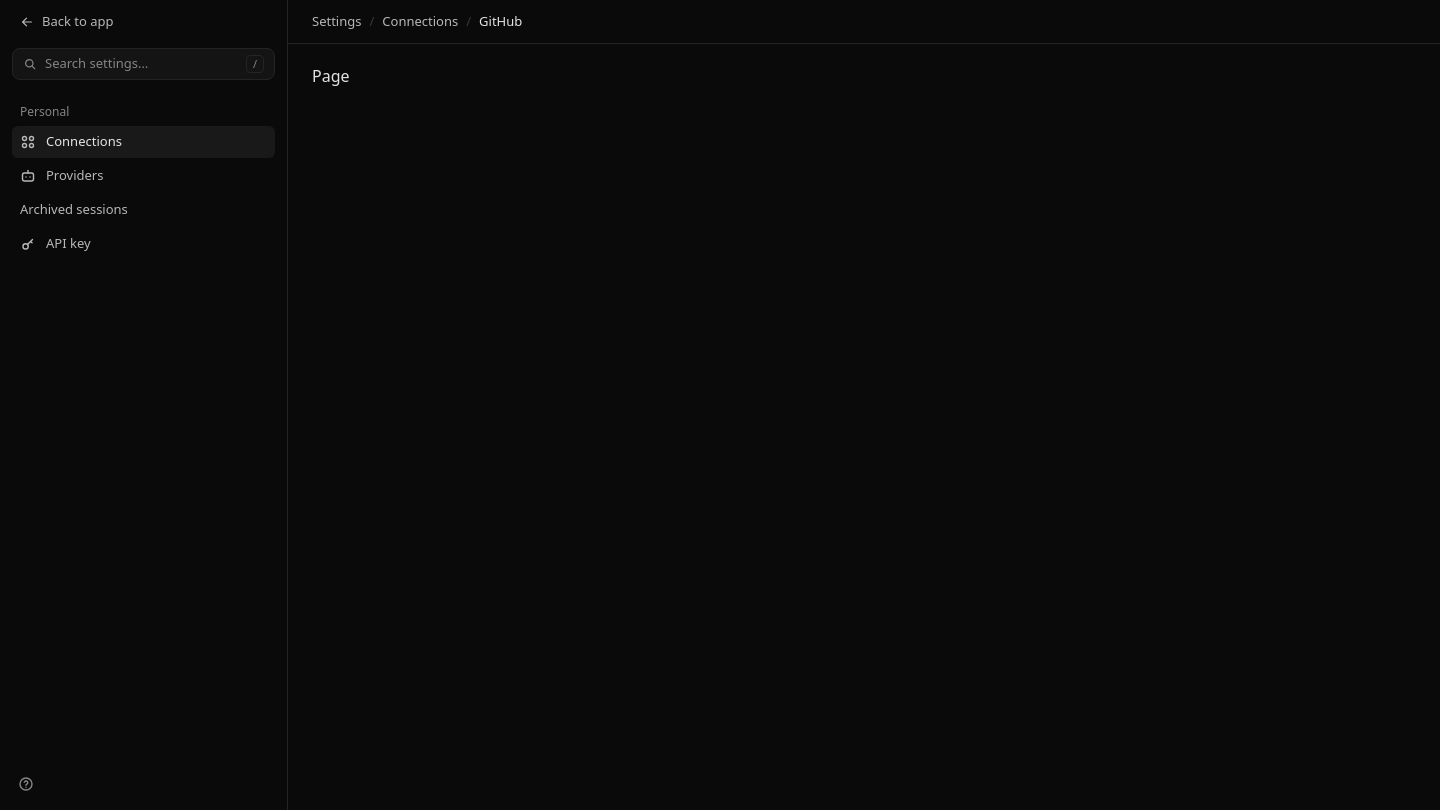
Scenario: Settings shell › narrows the rail to matching settings and marks where the page sits
This screenshot has width=1440, height=810.
// `false` is the event having been cancelled, so the slash is not typed into the field.
Step 1. Press /
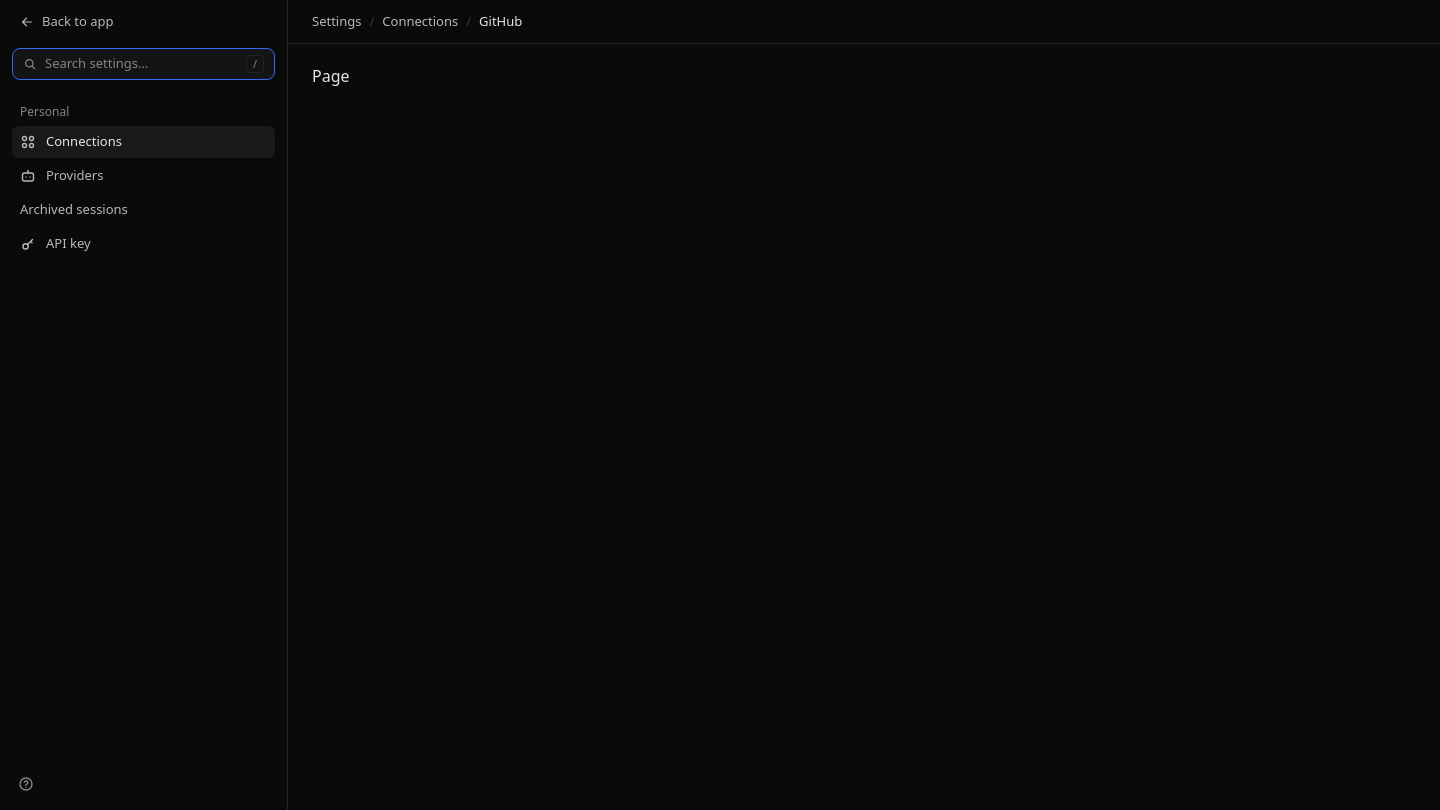
Step 2. Type "key" into the search field named "Search settings" → [141, 64], box [45,54,238,74]
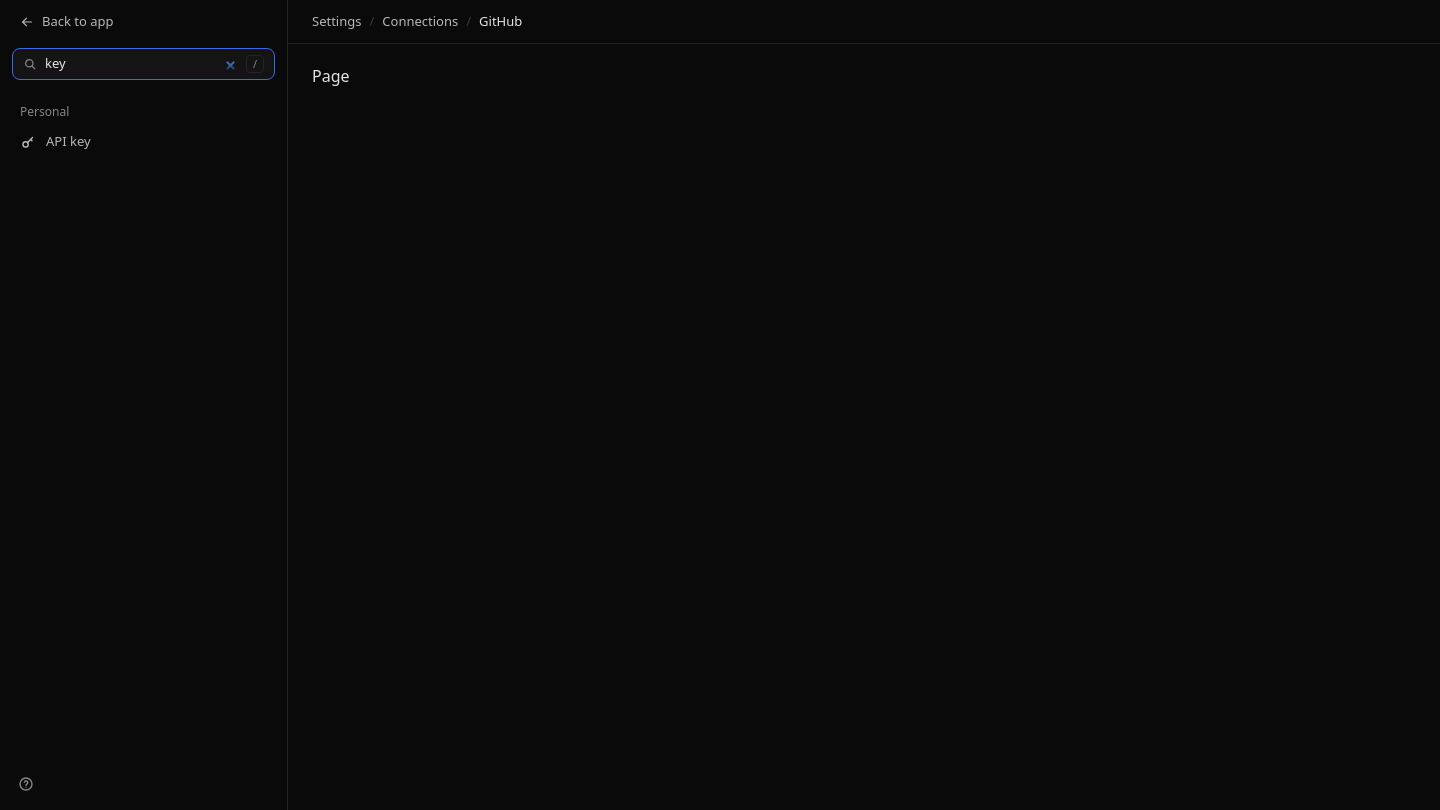
expect the button "API key" is shown: met, box [12,126,275,158]
Step 3. Replace the text in the search field named "Search settings" with "billing" → [141, 64], box [45,54,238,74]
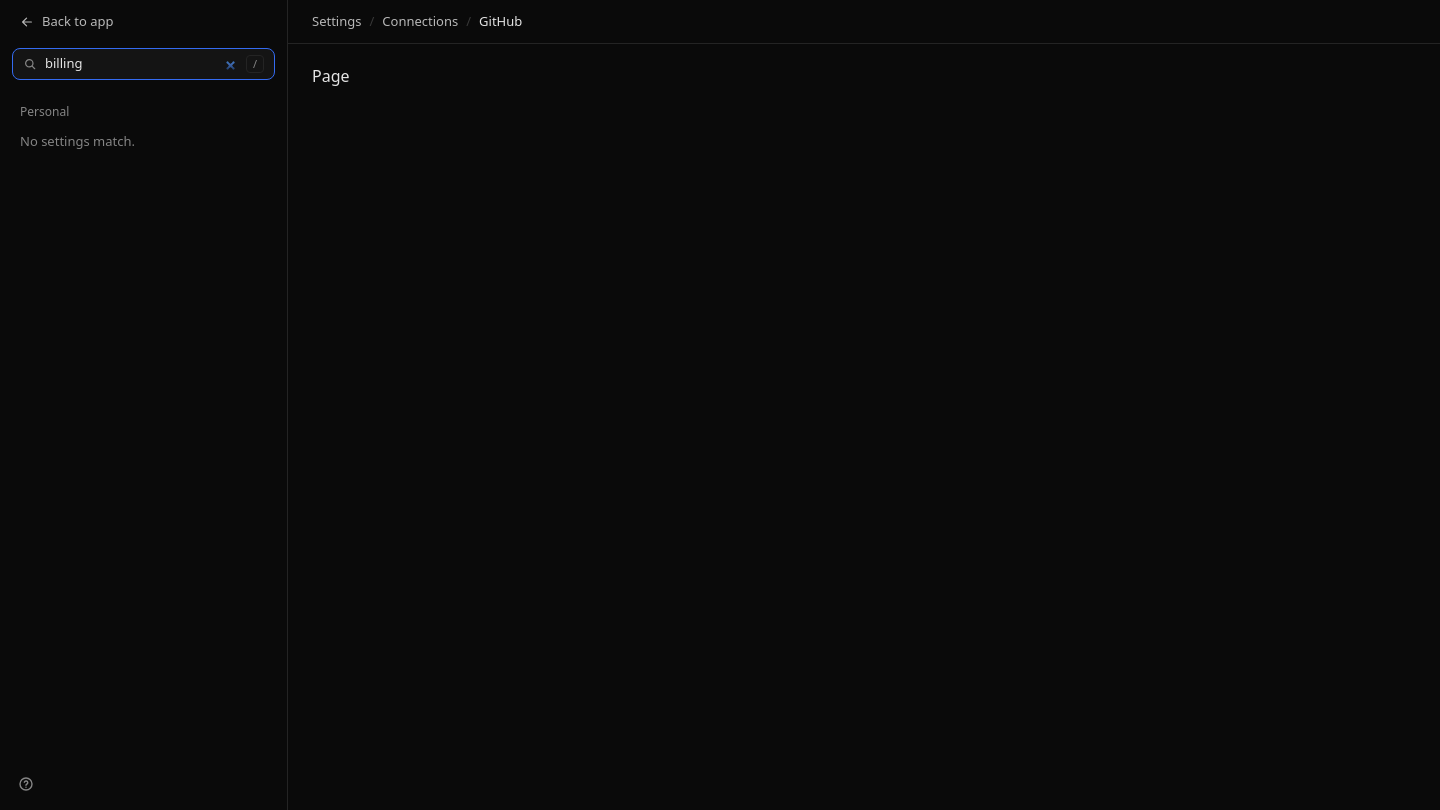
expect the text "No settings match." is shown: met, box [20,132,135,150]
